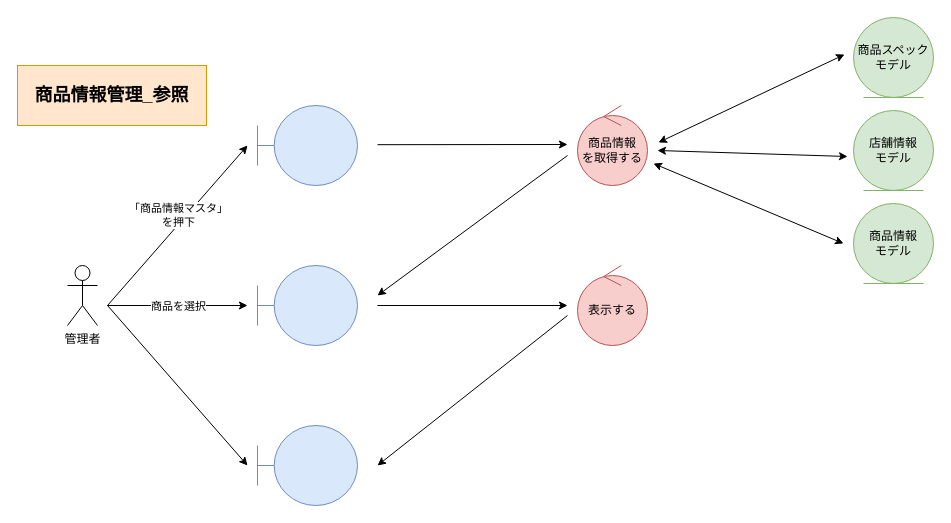
This 951x523 diagram has some shape labels left out. Here are the shapes that lost their labels. From the top down, the box of each, then its label:
(256, 104, 358, 186): ログイン済 ホーム画面
(256, 264, 358, 346): 商品情報 一覧画面
(256, 424, 358, 506): 詳細画面
